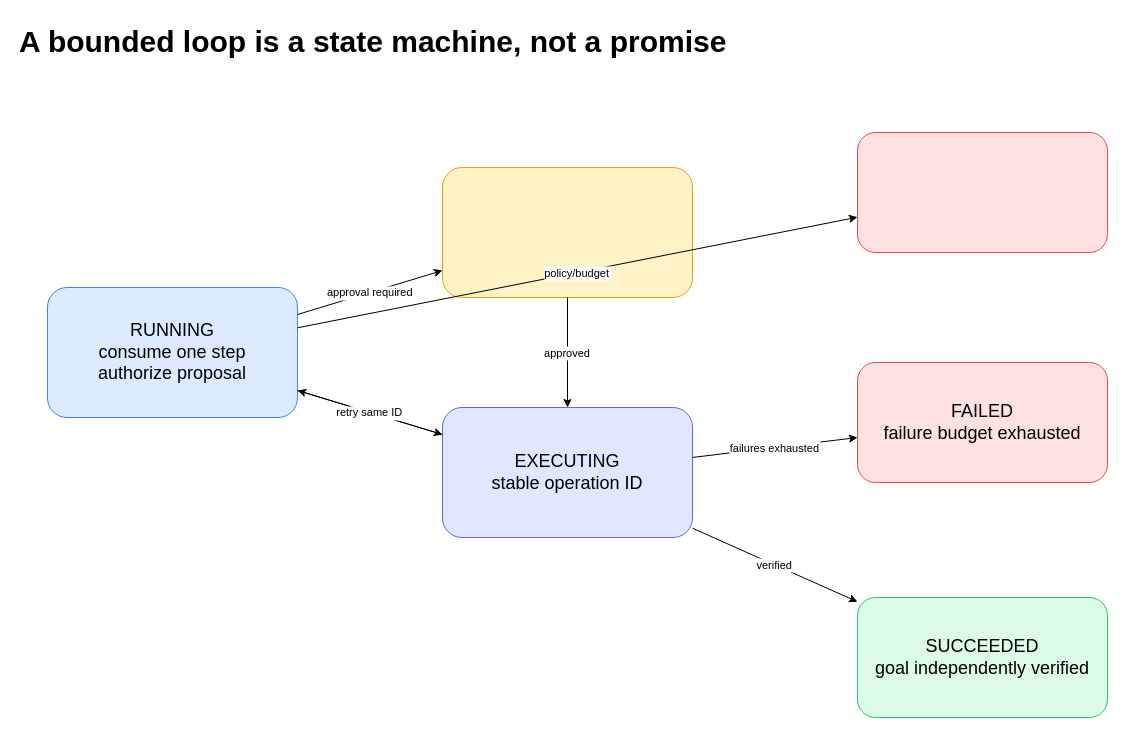
Image size: 1125x735. Some labels were removed from this diagram. Each missing label, with the box of its shape:
STOPPED denied or no budget: (856, 132, 1108, 252)
WAITING matching approval: (442, 166, 692, 298)
